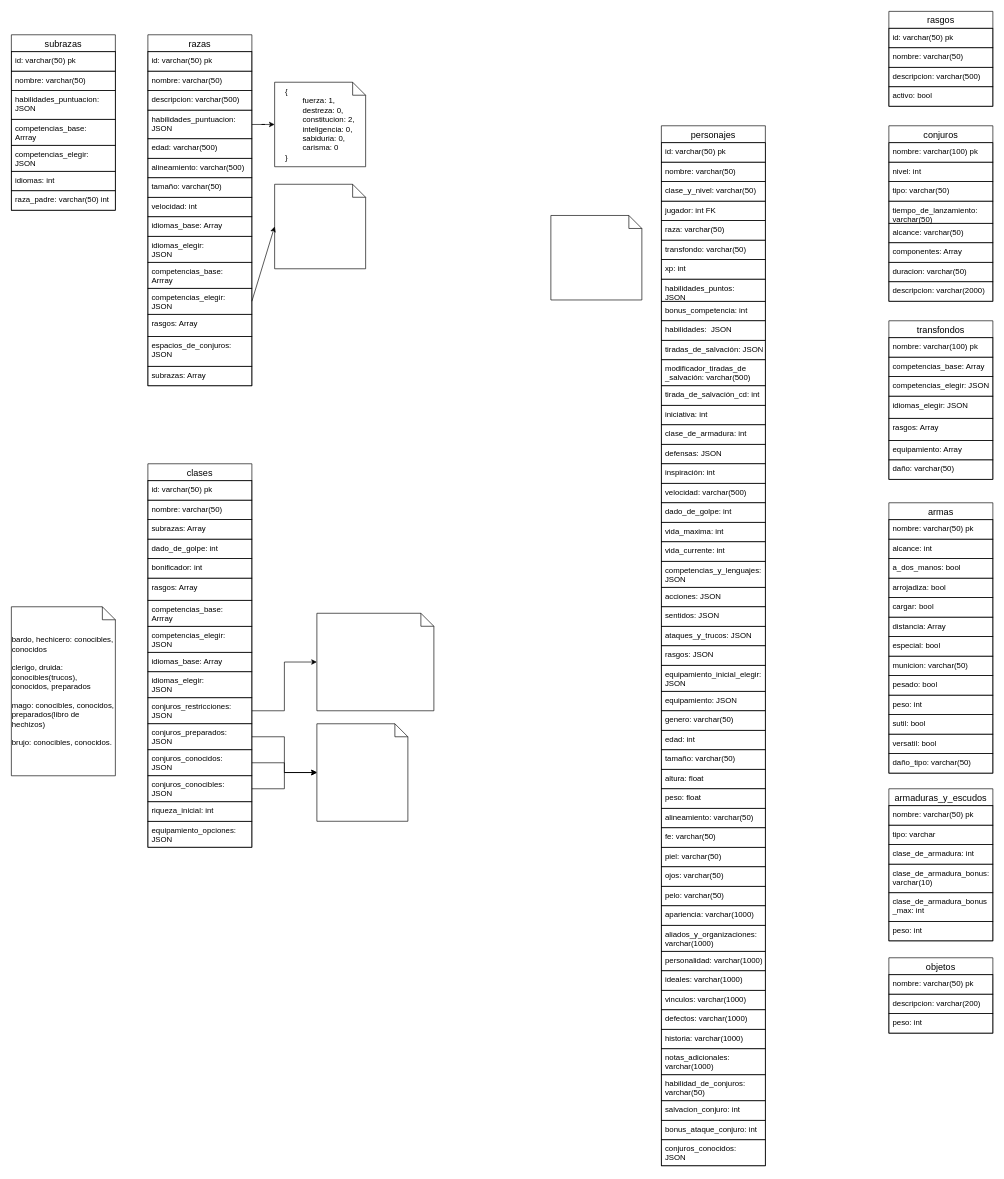
This 1004x1179 diagram has some shape labels left out. The centre of each missing label's shape, as x and y in pixels:
"{ 0: [ truco1 ] 1: [ h echizo1, conjuro2 ] }" goes at point 362,772.
"{ elegir: 2, de: [ h ab-sigilo, hab-x, hab-y ] }" goes at point 320,226.
"{ hechizos_conocidos: int trucos_conocidos: int slots:{ 1: int } }" goes at point 375,662.
"{ sal-const: c res-veneno: c ven-sal-veneno: c }" goes at point 596,257.
